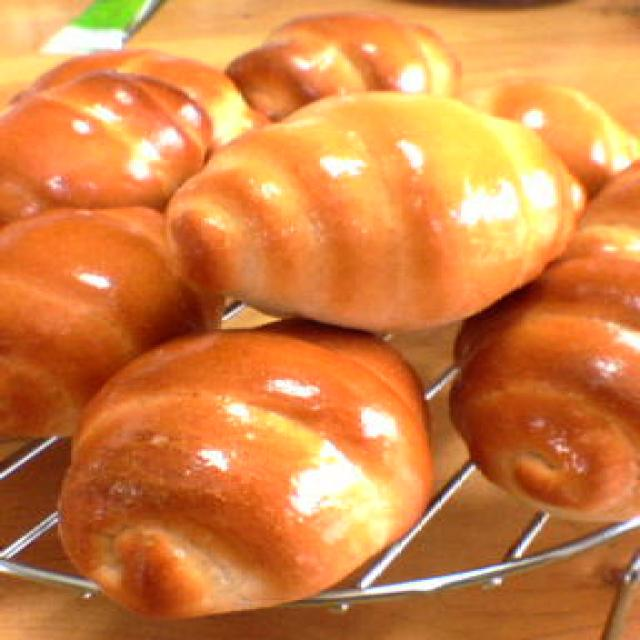面包点心: (0, 40, 640, 611)
